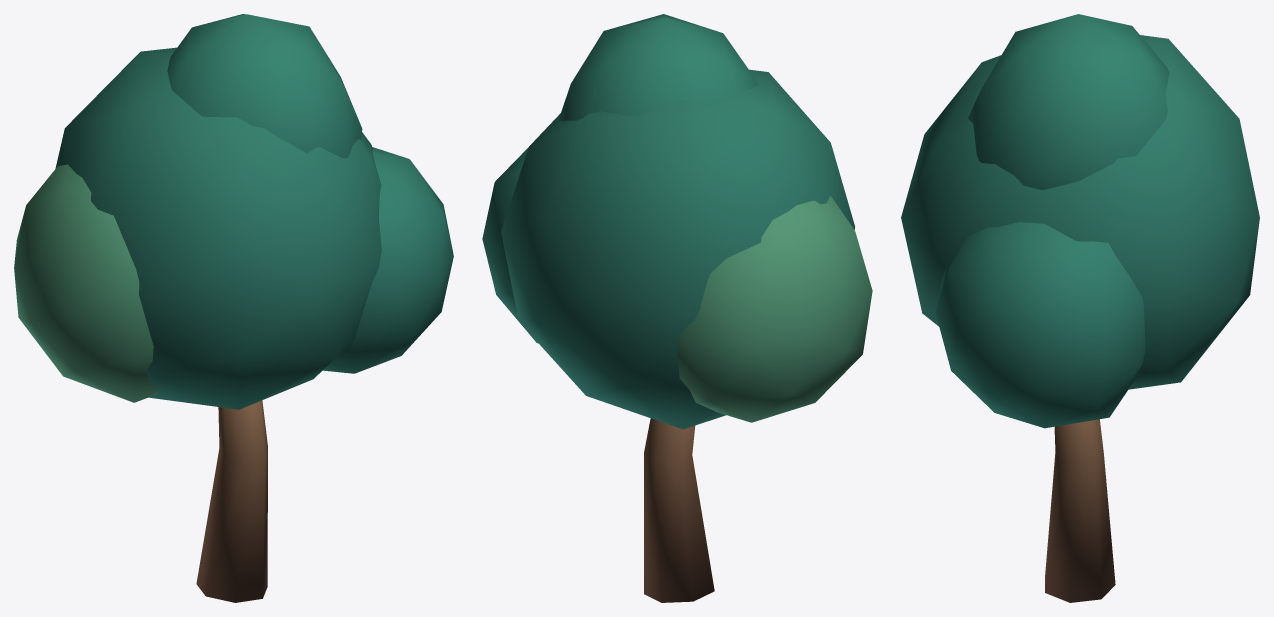
Rendered from tree_small.glb.
The picture shows the model from 3 angles, left to right: view 1: azimuth 30°, elevation 25°; view 2: azimuth 150°, elevation 25°; view 3: azimuth 270°, elevation 25°; orthographic projection.
Parts seen in each view (by area): view 1: tree_small; view 2: tree_small; view 3: tree_small.
Part boxes in pixels (left/top/right/bottom): tree_small: left=14, top=14, right=453, bottom=602; tree_small: left=482, top=14, right=872, bottom=602; tree_small: left=901, top=14, right=1259, bottom=602.
Bounding box in the file's own units: 2.63 × 3.8 × 2.13.
